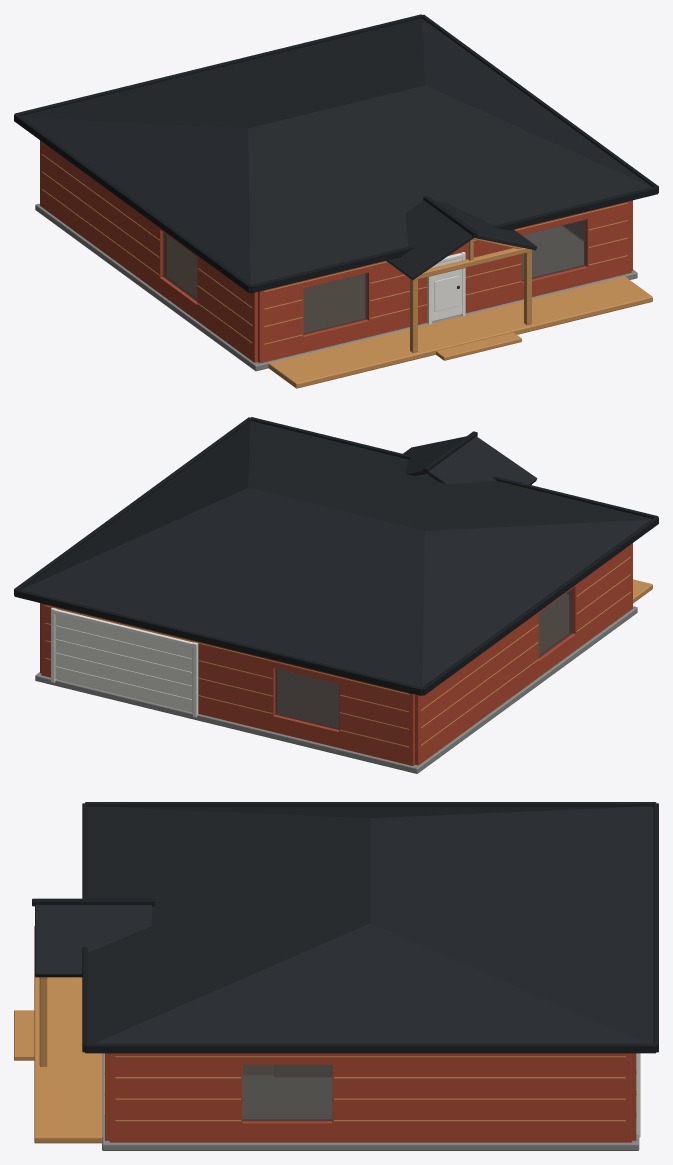
File: CanadaLakeCabin.glb
The picture shows the model from 3 angles, top to bottom: view 1: azimuth 30°, elevation 25°; view 2: azimuth 150°, elevation 25°; view 3: azimuth 270°, elevation 25°; orthographic projection. The views are drawn at different scales.
Visible parts, largest first — view 1: RoofStatic_Mesh, BuildingStatic_Mesh, DoorFront_Mesh; view 2: RoofStatic_Mesh, BuildingStatic_Mesh, GarageDoor_Mesh; view 3: RoofStatic_Mesh, BuildingStatic_Mesh.
Part boxes in pixels (x1,y1,x2,y2): RoofStatic_Mesh: (14, 14, 658, 293); BuildingStatic_Mesh: (35, 140, 652, 388); DoorFront_Mesh: (432, 258, 462, 321); RoofStatic_Mesh: (14, 417, 658, 695); BuildingStatic_Mesh: (35, 484, 652, 773); GarageDoor_Mesh: (55, 614, 192, 712); RoofStatic_Mesh: (32, 802, 658, 1053); BuildingStatic_Mesh: (14, 926, 640, 1150).
Size of the model in its own units: 17.66 by 5.65 by 19.76.
